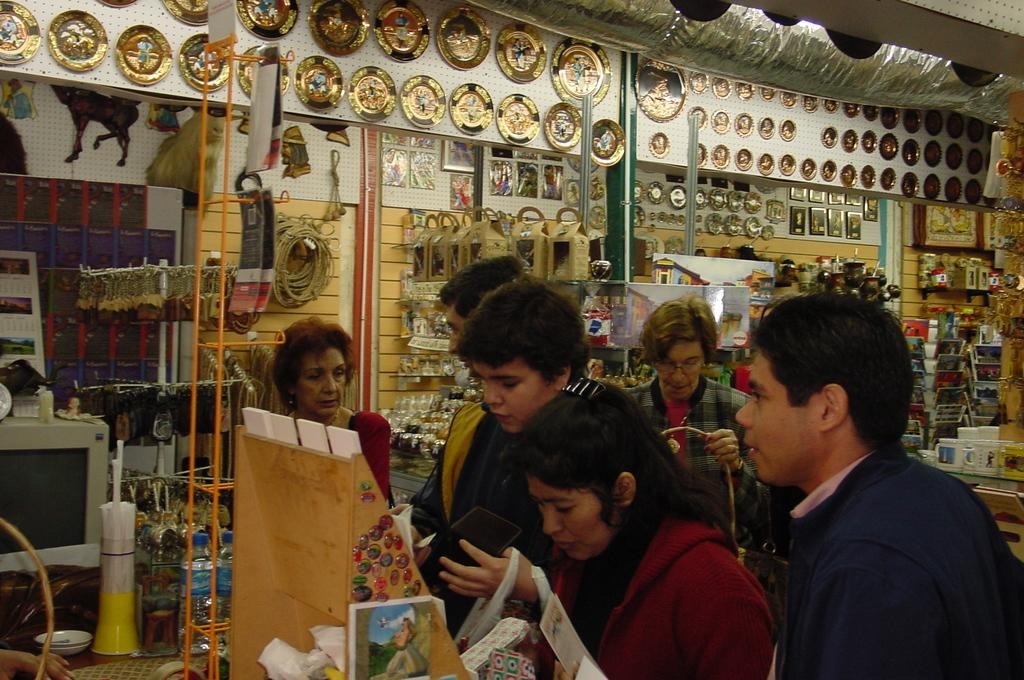Sem Máscara: (730, 340, 814, 496), (535, 471, 615, 559), (474, 359, 551, 437), (294, 335, 349, 416), (647, 339, 696, 394)
